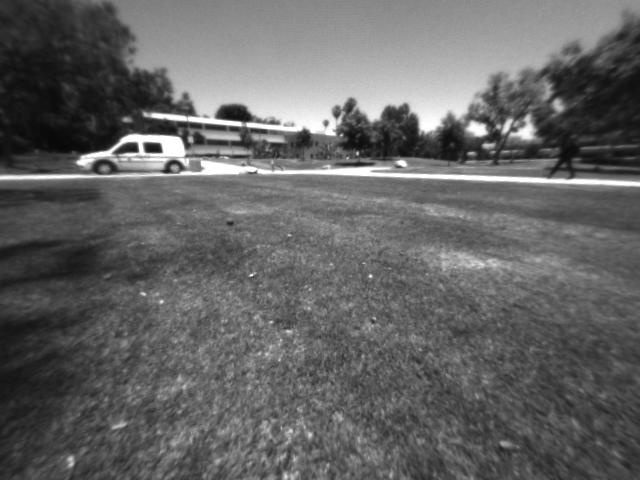dogtoy: (218, 210, 243, 231)
